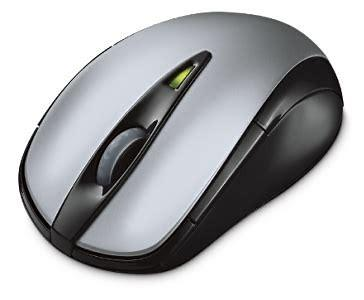computer mouse: (18, 12, 345, 276)
